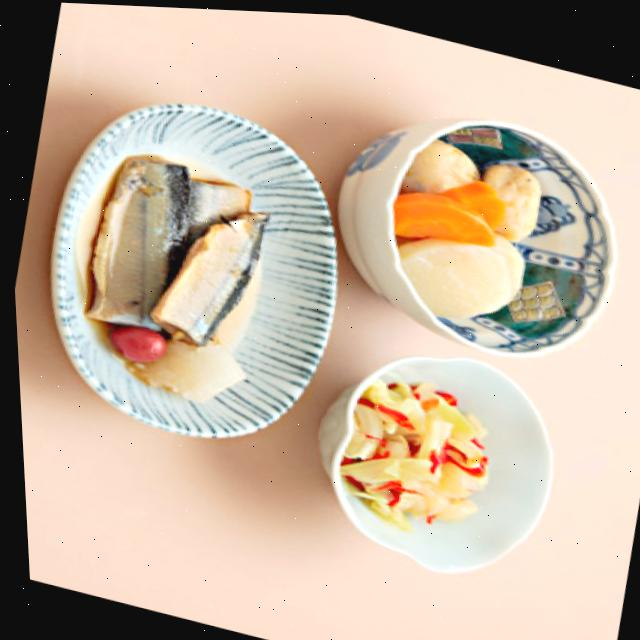熟制海鲜: (322, 99, 601, 401)
